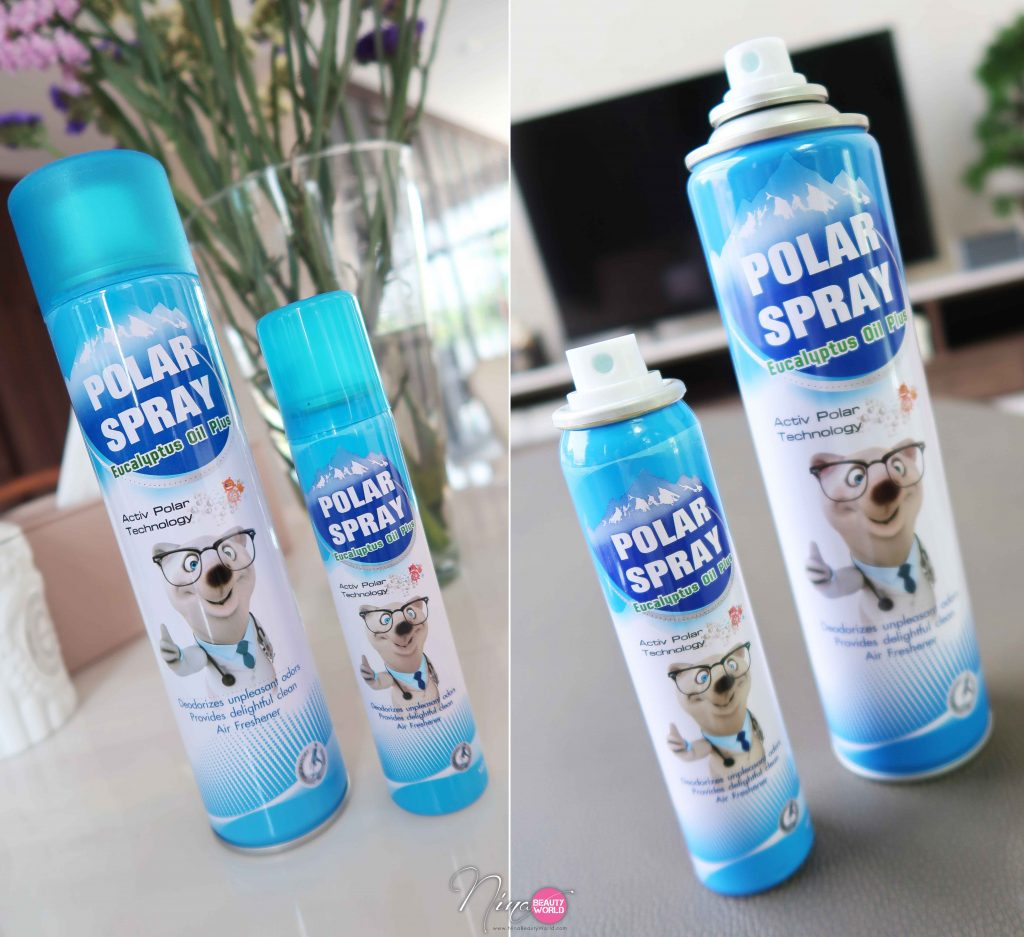Aerosol_cans: (8, 146, 361, 869), (682, 33, 997, 788), (552, 327, 829, 908), (253, 284, 495, 823)
